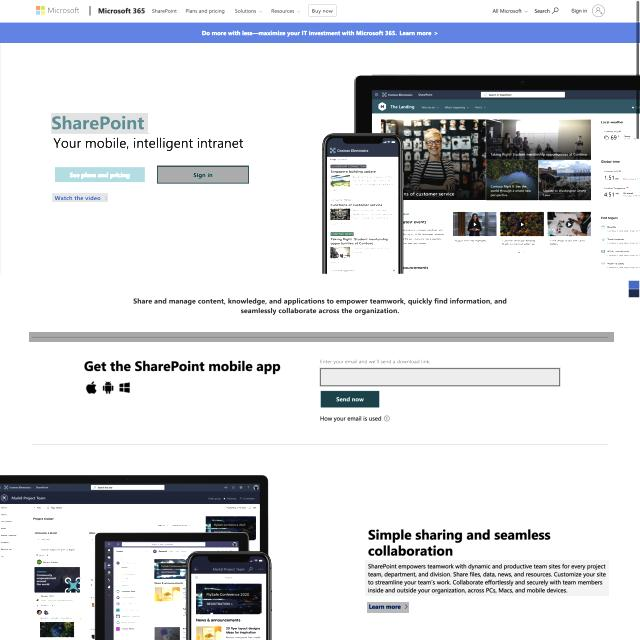CheckBox: (157, 165, 249, 184), (54, 167, 145, 183), (320, 390, 380, 408), (52, 193, 108, 202), (307, 3, 338, 18), (367, 602, 409, 613)
CheckedTextView: (319, 367, 561, 387)
Input field: (132, 295, 516, 318), (365, 560, 609, 596)
ProgressBar: (0, 21, 640, 44)
accordion: (29, 332, 614, 342)
bag: (0, 0, 638, 23)
breadcrumbs: (52, 133, 247, 153)
card: (1, 43, 640, 276)
copy: (0, 473, 274, 640)
data feed: (318, 357, 433, 366)
date picker: (34, 3, 82, 17)
decoration: (150, 6, 304, 17)
image: (52, 113, 150, 134)
